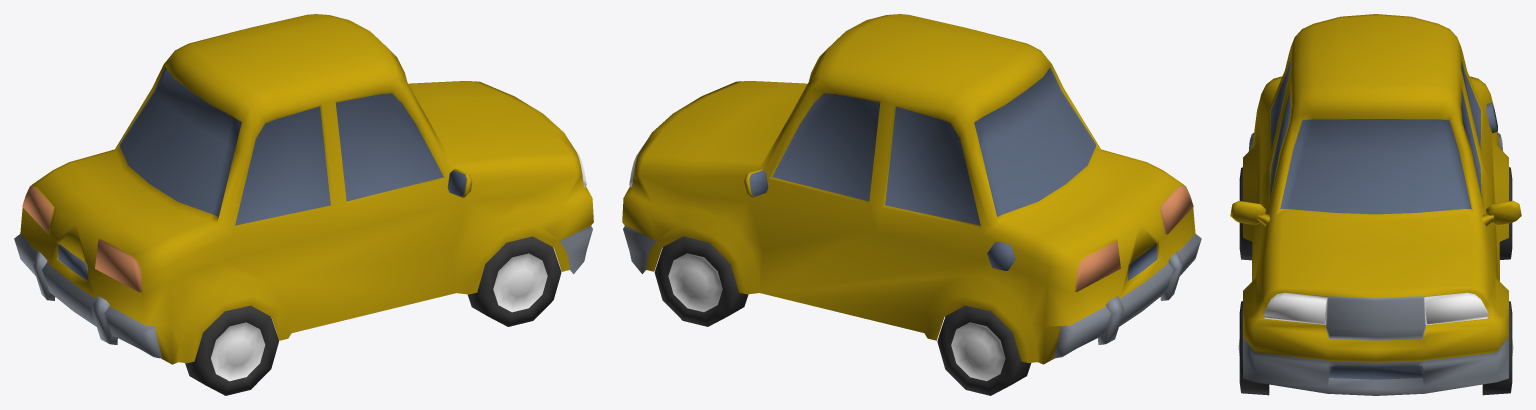
The model's file is CuteTaxiWithTexture.fbx.
3 views of the same model, side by side, from view 1: azimuth 30°, elevation 25°; view 2: azimuth 150°, elevation 25°; view 3: azimuth 270°, elevation 25° (orthographic). The views are drawn at different scales.
Parts seen in each view (by area): view 1: car_3x5; view 2: car_3x5; view 3: car_3x5.
Part boxes in pixels (x1=…): car_3x5: x1=14, y1=14, x2=593, y2=395; car_3x5: x1=622, y1=14, x2=1201, y2=395; car_3x5: x1=1230, y1=14, x2=1521, y2=395.
Size of the model in its own units: 5 by 2.64 by 2.66.
1 material, 1 textured.
